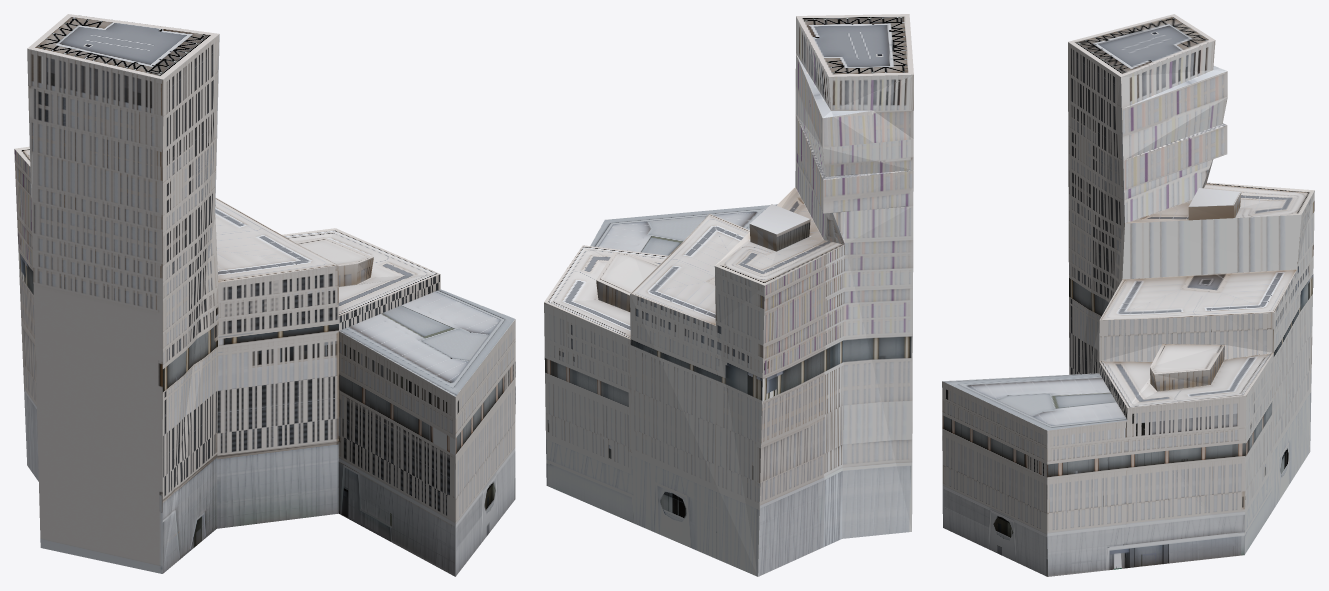
Rendered from 212modelnew.glb.
The picture shows the model from 3 angles, left to right: view 1: azimuth 30°, elevation 25°; view 2: azimuth 150°, elevation 25°; view 3: azimuth 270°, elevation 25°; orthographic projection. The views are drawn at different scales.
Visible parts, largest first — view 1: 2.002; view 2: 2.002; view 3: 2.002.
Boxes of the visible parts, x1,y1,x2,y2 form: 2.002: [14, 14, 515, 576]; 2.002: [544, 14, 913, 576]; 2.002: [942, 14, 1314, 576].
Bounding box in the file's own units: 90.66 × 105 × 87.88.
1 material, 1 textured.
